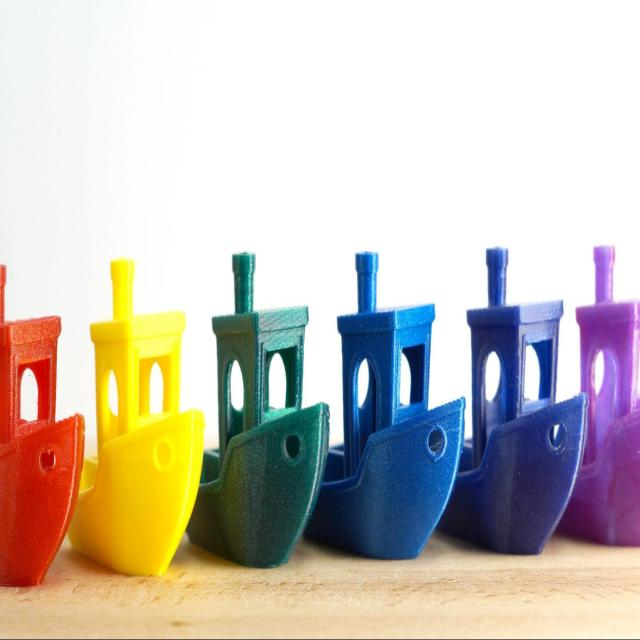Without deffect: (74, 240, 200, 578), (203, 248, 333, 571), (337, 245, 464, 570), (470, 243, 588, 561)
